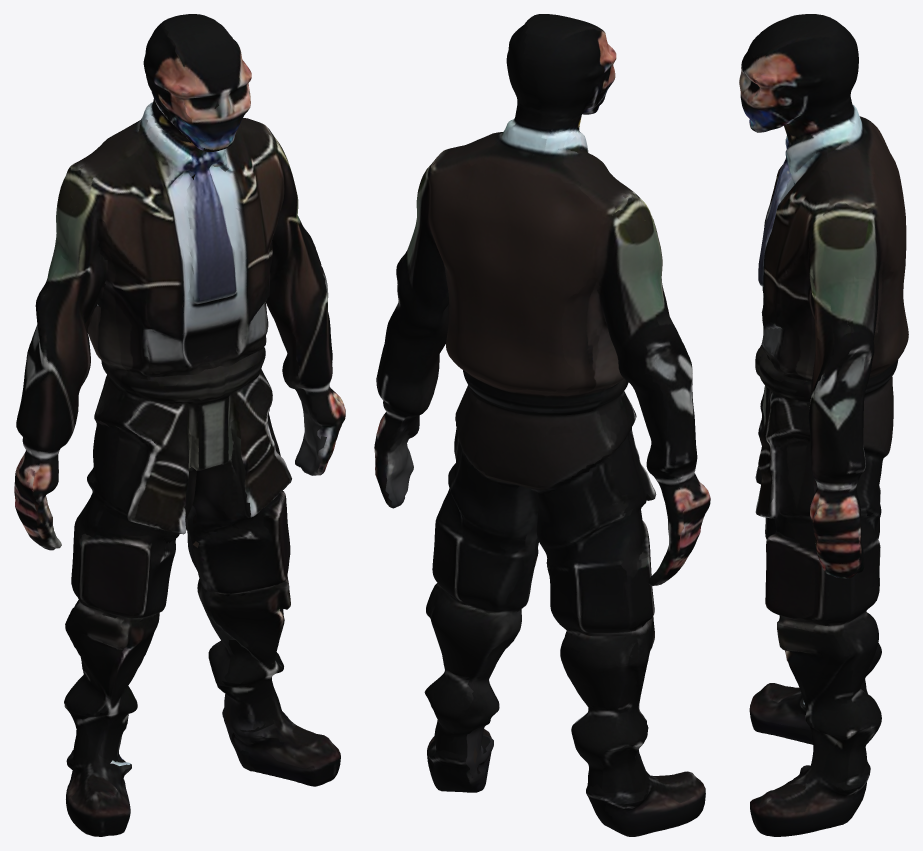
File: zombie-3-city-office-worker.glb
3 views of the same model, side by side, from view 1: azimuth 30°, elevation 25°; view 2: azimuth 150°, elevation 25°; view 3: azimuth 270°, elevation 25° (orthographic). The views are drawn at different scales.
Visible parts, largest first — view 1: tmpcsvc9cgx.ply; view 2: tmpcsvc9cgx.ply; view 3: tmpcsvc9cgx.ply.
Boxes of the visible parts, bbox=[...] form: tmpcsvc9cgx.ply: bbox=[14, 14, 345, 836]; tmpcsvc9cgx.ply: bbox=[374, 14, 710, 836]; tmpcsvc9cgx.ply: bbox=[739, 14, 908, 836].
Size of the model in its own units: 0.8505 by 1.96 by 0.3991.
Materials: 1 (1 with a texture image).
